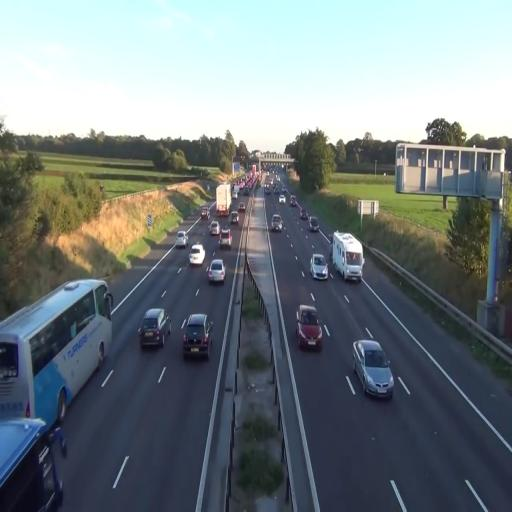vehicle: (0, 278, 114, 442), (0, 413, 65, 509), (352, 339, 394, 401), (331, 230, 364, 283), (182, 313, 212, 360), (138, 307, 170, 351), (296, 305, 323, 352), (216, 182, 232, 216), (310, 253, 329, 280), (207, 258, 225, 285), (188, 243, 205, 267), (220, 227, 232, 246), (271, 214, 283, 232), (176, 231, 188, 249), (208, 220, 220, 237), (310, 217, 319, 231)
